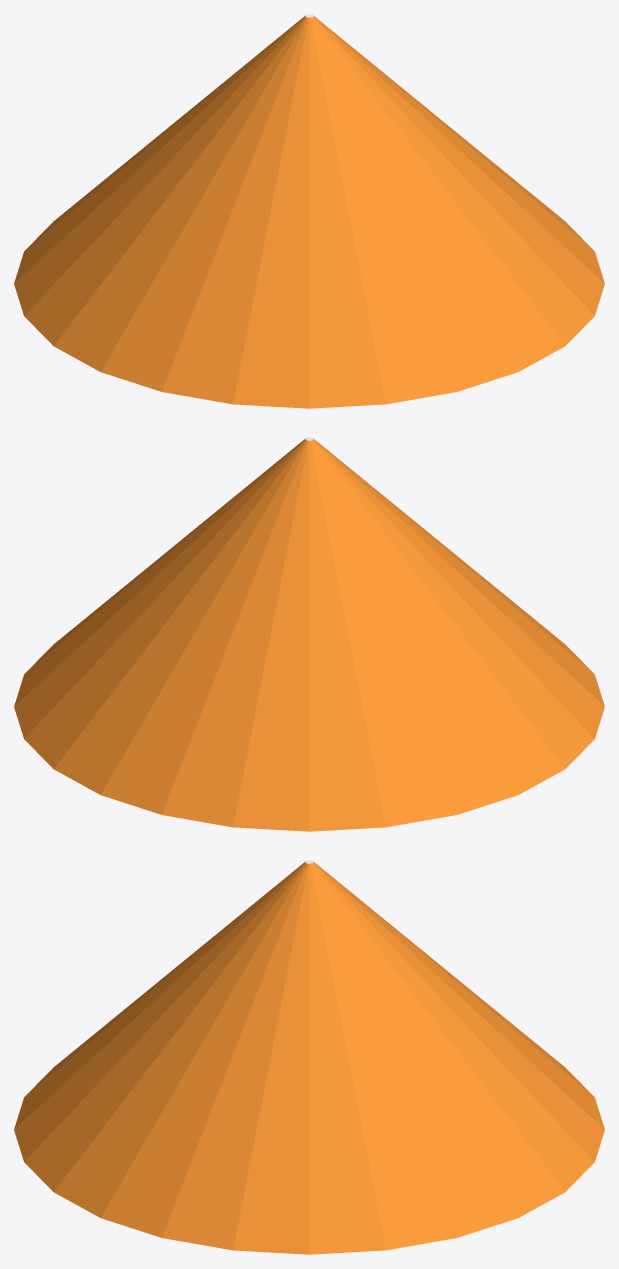
Rendered from WoodChipPile2.dae.
3 renders of one model, top to bottom at view 1: azimuth 30°, elevation 25°; view 2: azimuth 150°, elevation 25°; view 3: azimuth 270°, elevation 25°, orthographic.
Parts seen in each view (by area): view 1: SketchUp; view 2: SketchUp; view 3: SketchUp.
Boxes of the visible parts, x1=… form: SketchUp: x1=14, y1=15, x2=604, y2=408; SketchUp: x1=14, y1=438, x2=604, y2=831; SketchUp: x1=14, y1=861, x2=604, y2=1254.
Size of the model in its own units: 78.82 by 78.82 by 39.41.
